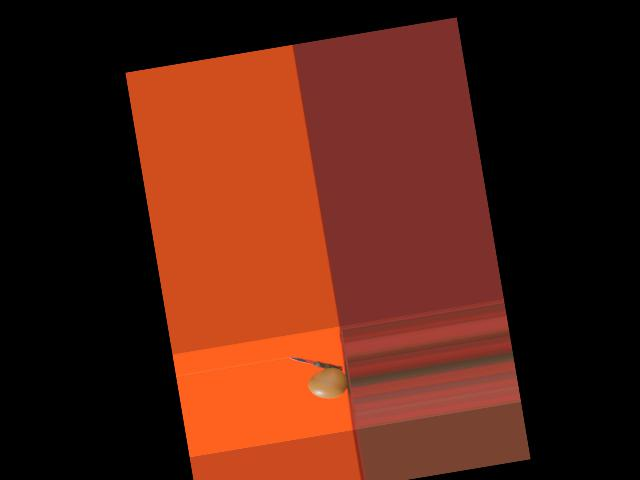egg: (306, 365, 349, 401)
